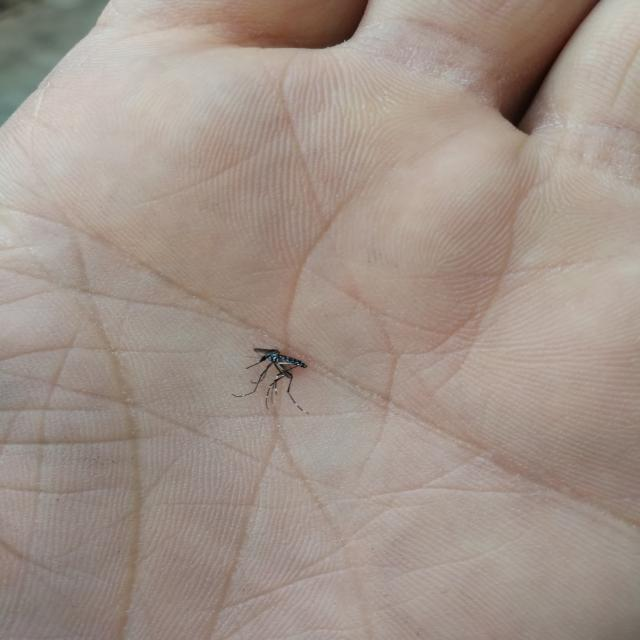albopictus: (226, 342, 316, 417)
